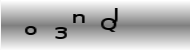3: (51, 25, 69, 41)
J: (112, 6, 120, 23)
Q: (99, 17, 118, 33)
n: (70, 12, 86, 24)
o: (23, 24, 37, 37)
